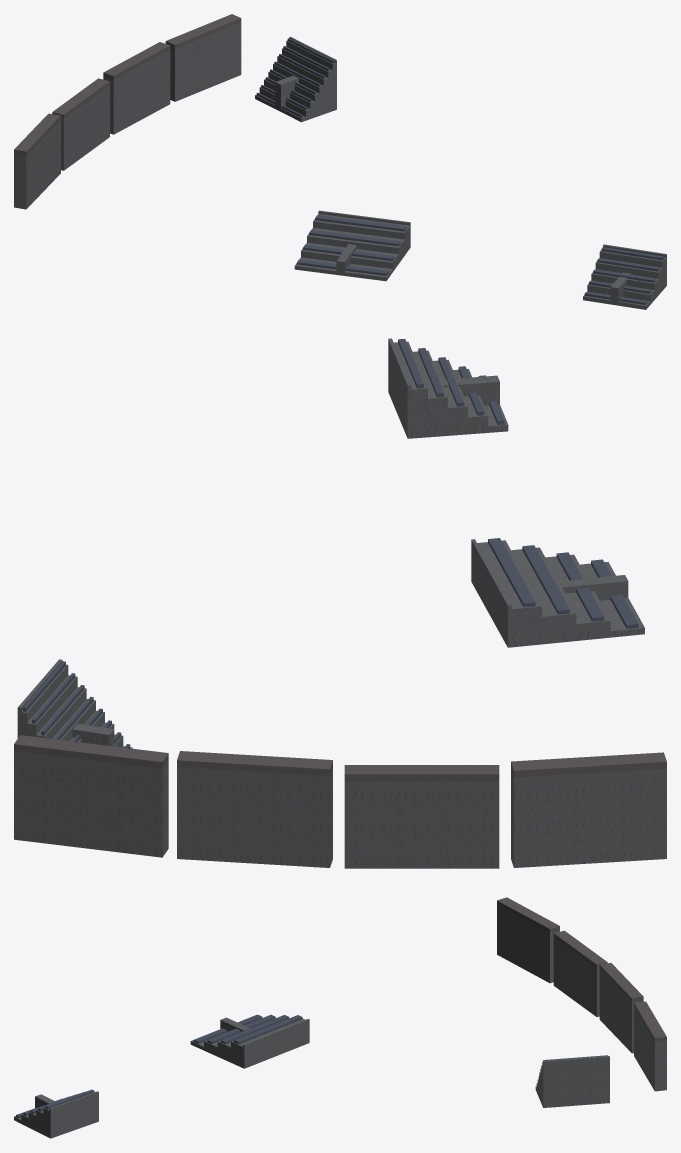
The model's file is SM_City_AlHalqa_2.fbx.
3 views of the same model, one above another, from view 1: azimuth 30°, elevation 25°; view 2: azimuth 150°, elevation 25°; view 3: azimuth 270°, elevation 25° (orthographic). The views are drawn at different scales.
Visible parts, largest first — view 1: SM_City_AlHalqa_2; view 2: SM_City_AlHalqa_2; view 3: SM_City_AlHalqa_2.
Boxes of the visible parts, x1,y1,x2,y2 form: SM_City_AlHalqa_2: (14,14,666,309); SM_City_AlHalqa_2: (14,338,666,868); SM_City_AlHalqa_2: (14,897,666,1138).
Size of the model in its own units: 4255 by 583 by 6272.
Materials: 4 (4 with a texture image).
